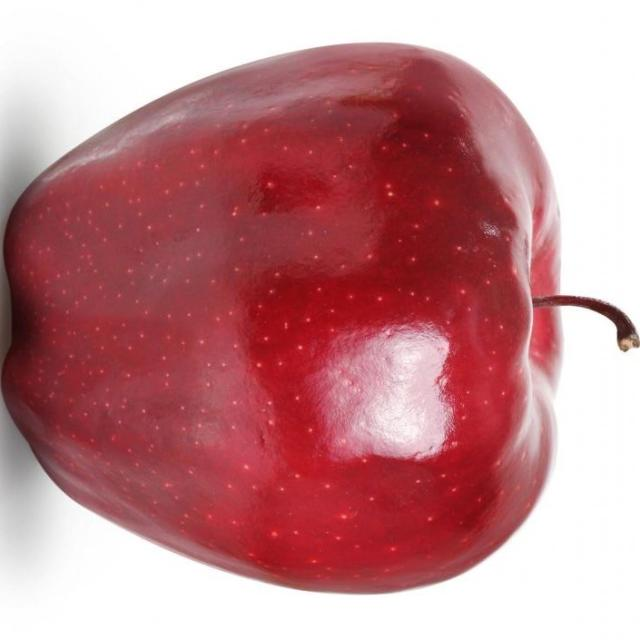100-_ripeness: (0, 38, 606, 596)
